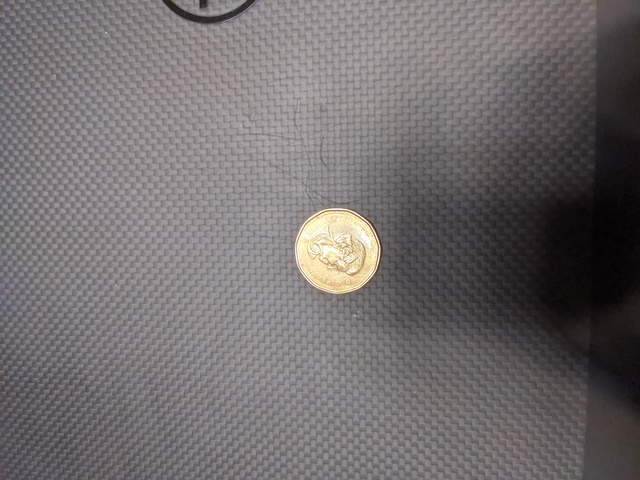loonie: (290, 198, 378, 297)
